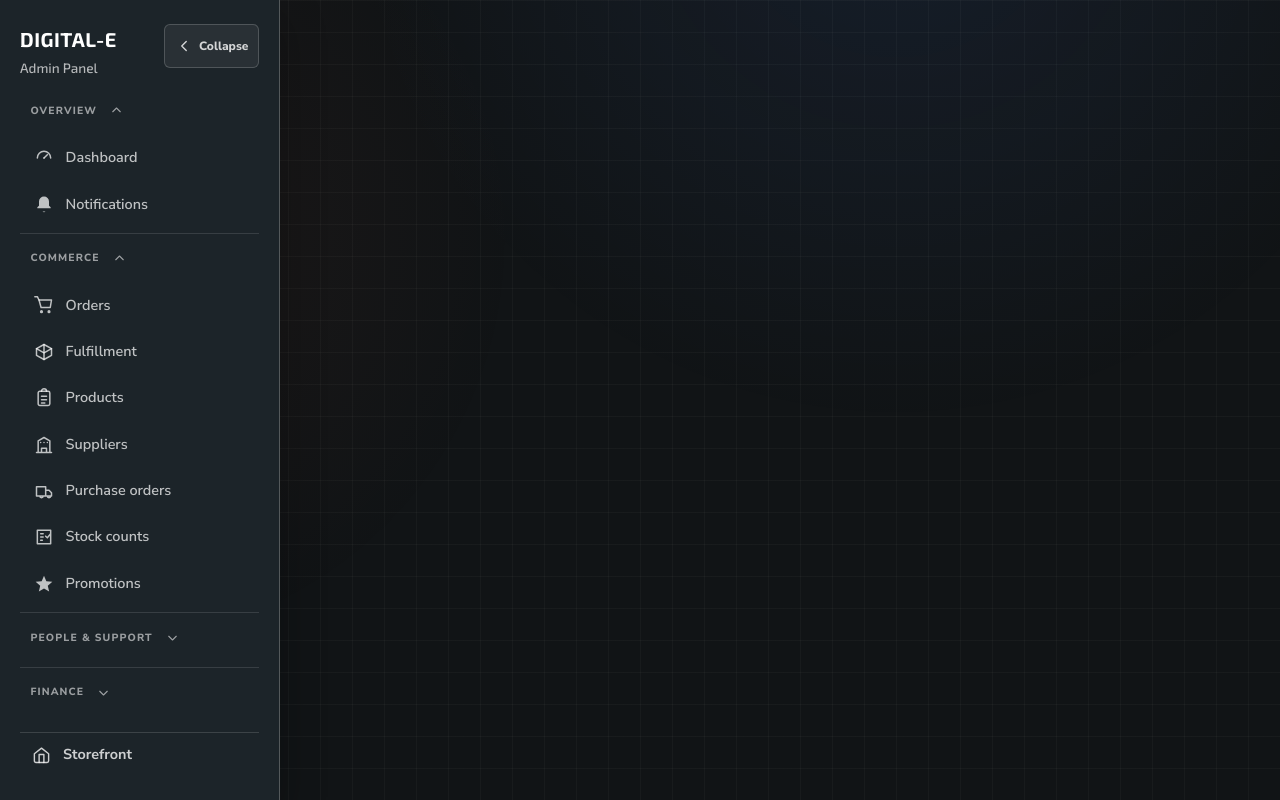
Test: AdminSidebar › keeps System & setup expanded after navigating to another group
Click the link "Orders" at [72, 305], box [34,294,110,315]
(page scrolled)
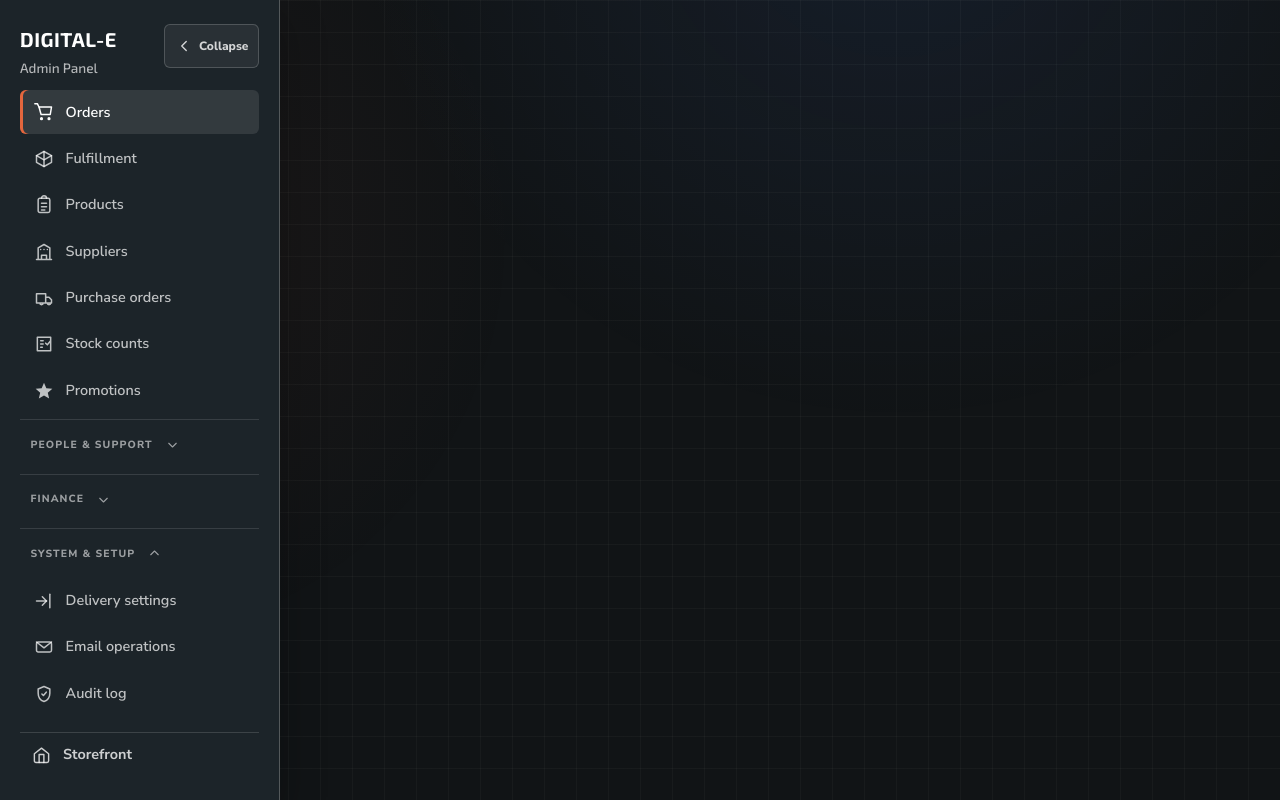
Expected: the link "Audit log" is shown, [34,683,126,704]
